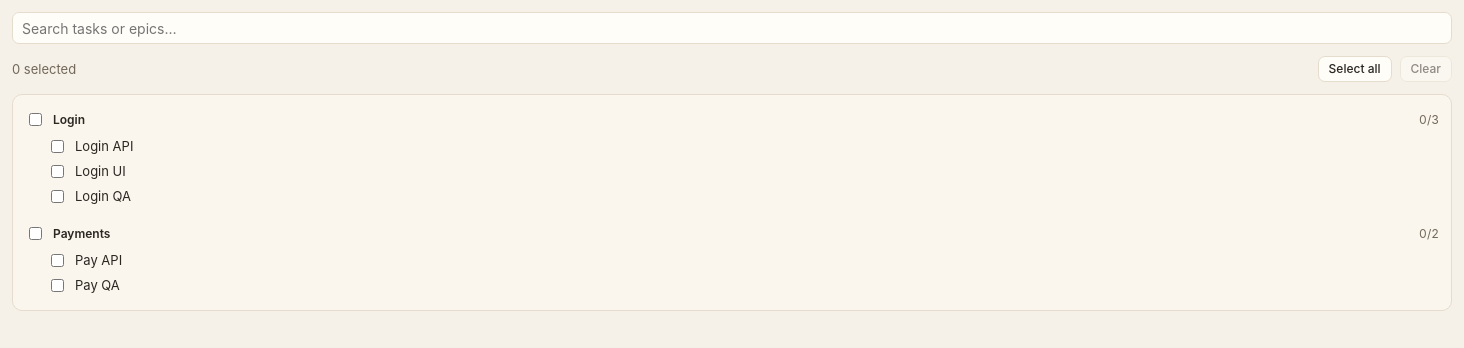
Test: DependencyPicker › select all / clear act on the search matches only
The image size is (1464, 348).
Step 1. Click the button "Select all" → x=1355, y=69, box x1=1318 y1=56 x2=1392 y2=82
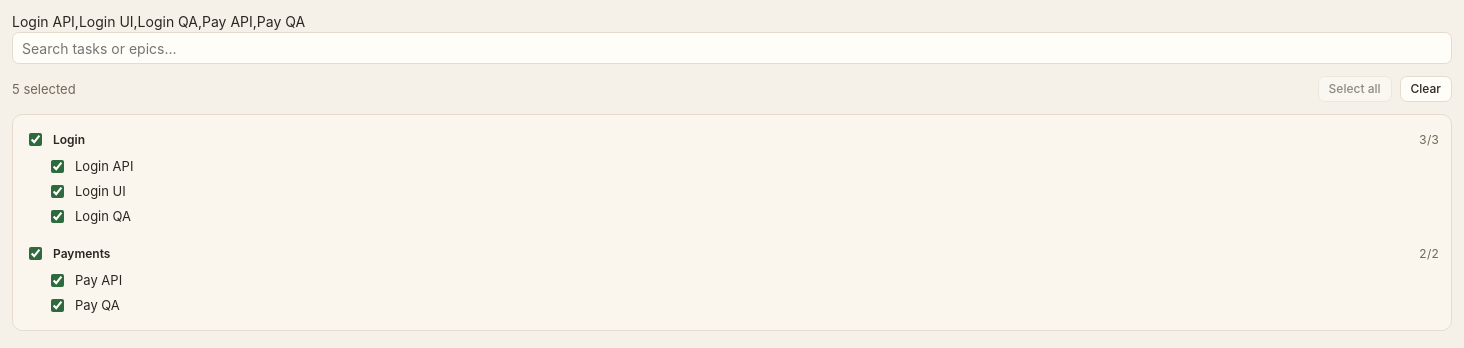
Expected: the text with test id "deps" reads "Login API,Login UI,Login QA,Pay API,Pay QA", x1=12 y1=13 x2=305 y2=30
Step 2. Type "qa" into the field named "Search tasks and epics" → x=732, y=48, box x1=12 y1=32 x2=1452 y2=64
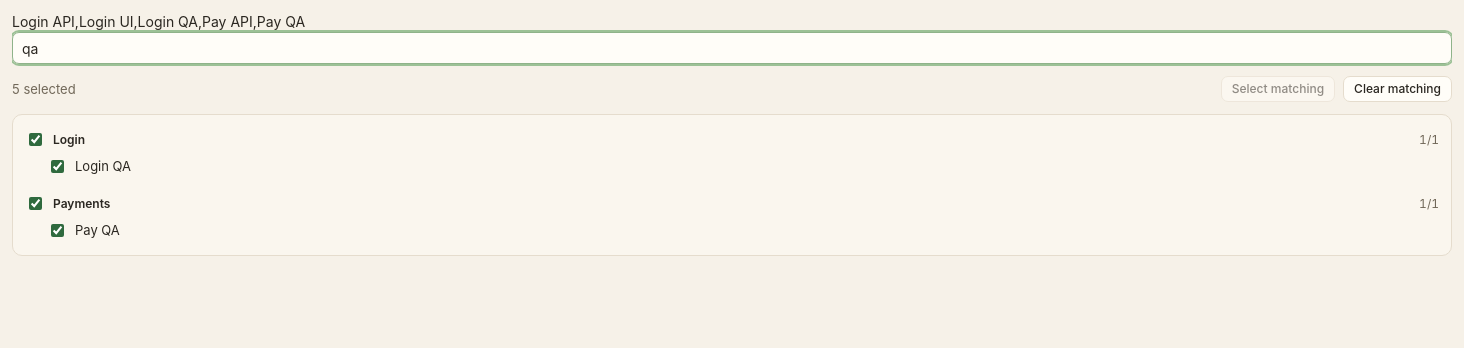
Step 3. Click the button "Clear matching" → x=1398, y=89, box x1=1343 y1=76 x2=1452 y2=102
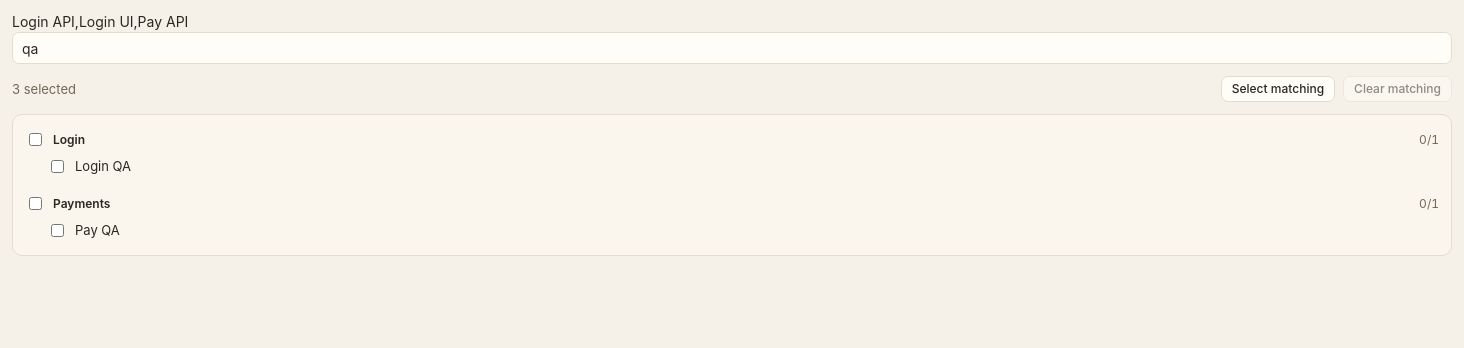
Expected: the text with test id "deps" reads "Login API,Login UI,Pay API", x1=12 y1=13 x2=188 y2=30
